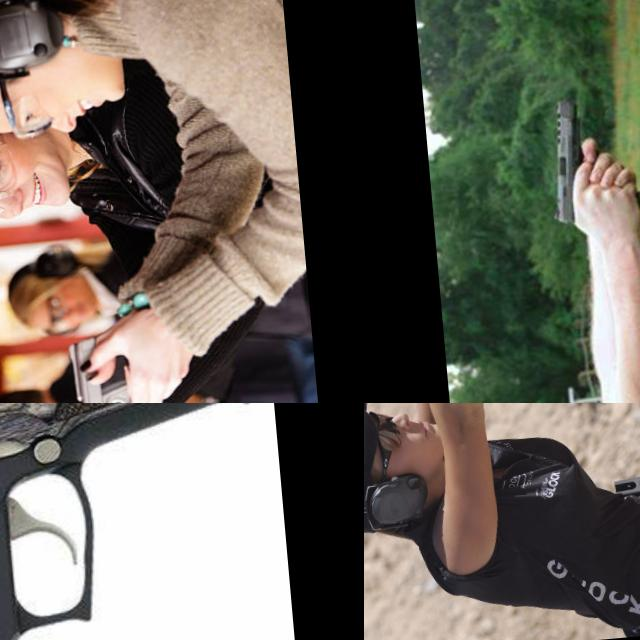handgun: (0, 403, 288, 640), (541, 90, 606, 228), (64, 328, 140, 403), (364, 403, 414, 468)
